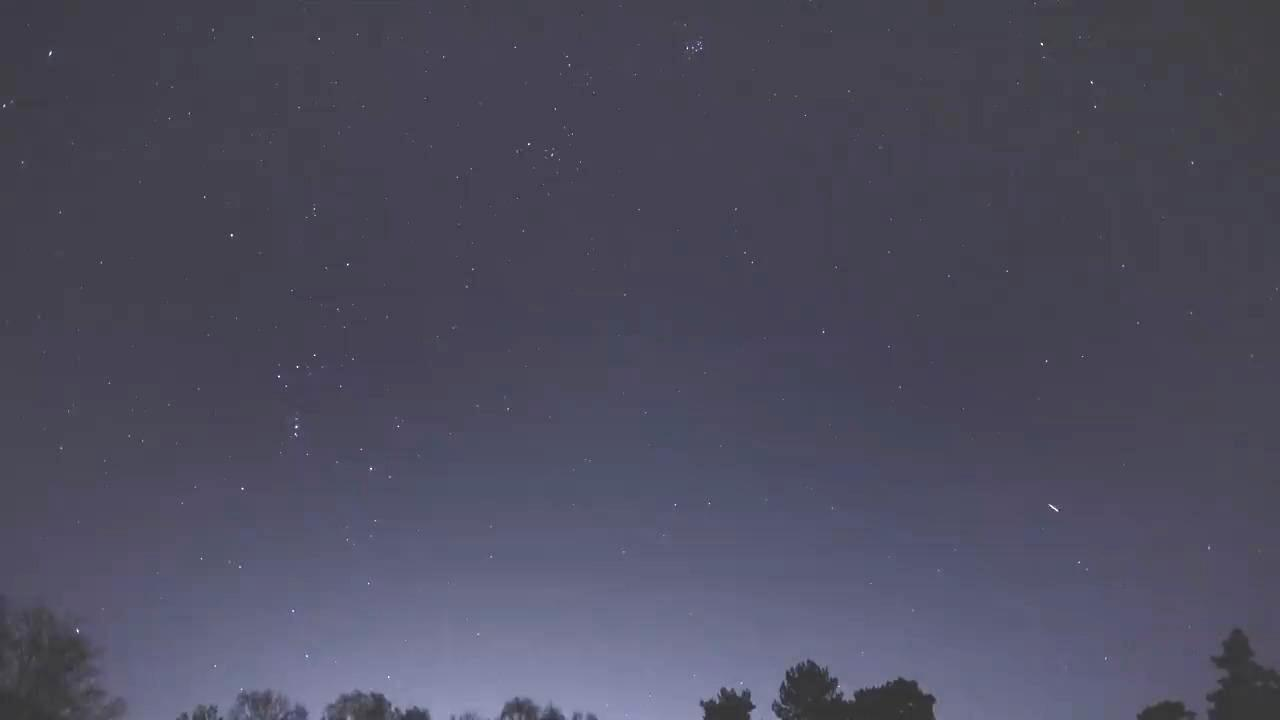meteorite: (1033, 496, 1075, 518)
